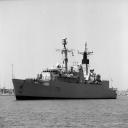Fragata: (13, 39, 121, 102)
